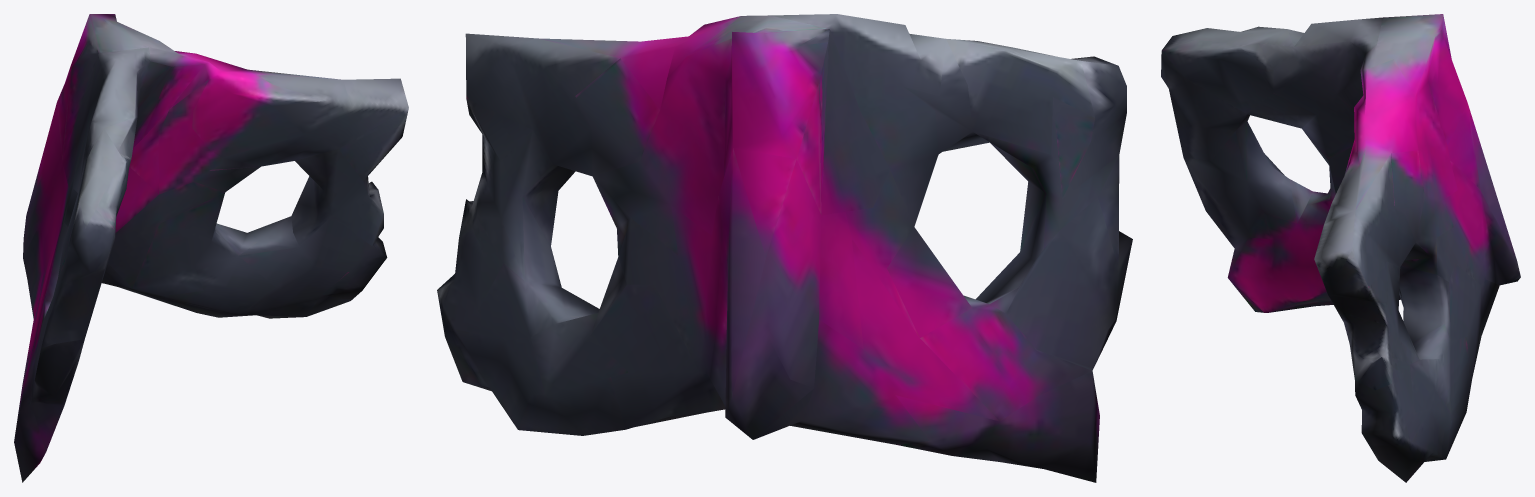
Rendered from GW_FX3D_metal_chunk.glb.
3 views of the same model, side by side, from view 1: azimuth 30°, elevation 25°; view 2: azimuth 150°, elevation 25°; view 3: azimuth 270°, elevation 25° (orthographic). The views are drawn at different scales.
Visible parts, largest first — view 1: tripo_node_0626d5c4-b644-4459-a564-09d33f42870c; view 2: tripo_node_0626d5c4-b644-4459-a564-09d33f42870c; view 3: tripo_node_0626d5c4-b644-4459-a564-09d33f42870c.
Boxes of the visible parts, x1,y1,x2,y2 form: tripo_node_0626d5c4-b644-4459-a564-09d33f42870c: [14, 14, 408, 482]; tripo_node_0626d5c4-b644-4459-a564-09d33f42870c: [437, 14, 1132, 482]; tripo_node_0626d5c4-b644-4459-a564-09d33f42870c: [1161, 14, 1520, 482].
Bounding box in the file's own units: 1 × 0.8116 × 0.7009.
1 material, 1 textured.
